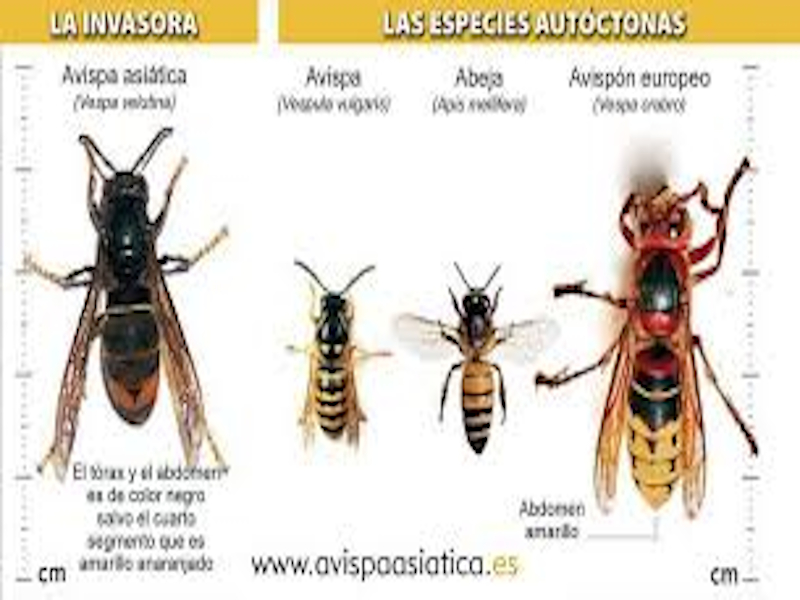chax: (302, 257, 412, 448)
